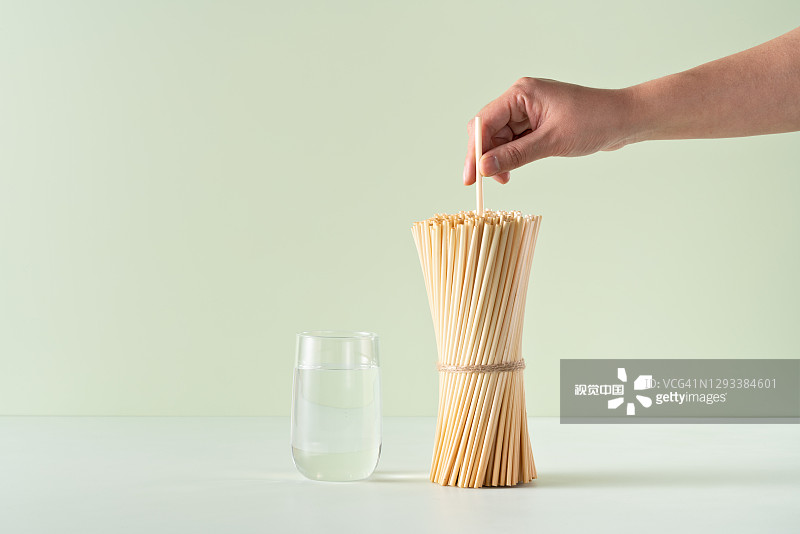no-phone: (449, 59, 657, 197)
